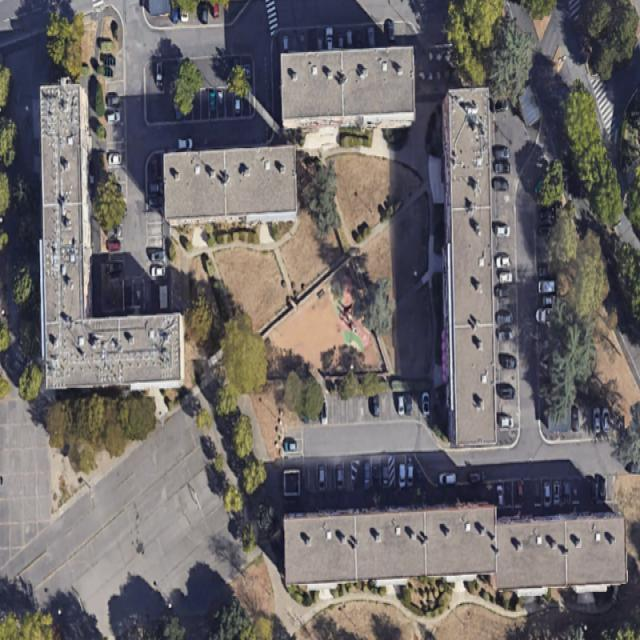immeuble: (439, 87, 497, 444), (282, 498, 501, 588), (41, 85, 92, 389), (41, 310, 190, 390), (281, 47, 416, 130), (161, 144, 299, 225), (495, 513, 628, 591)
